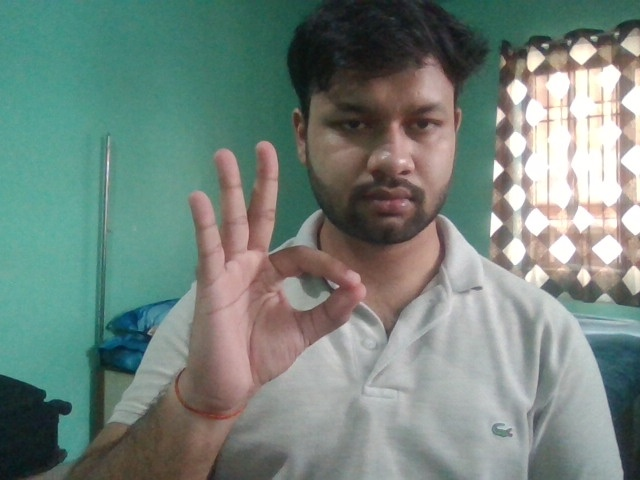Ok: (186, 139, 367, 417)
